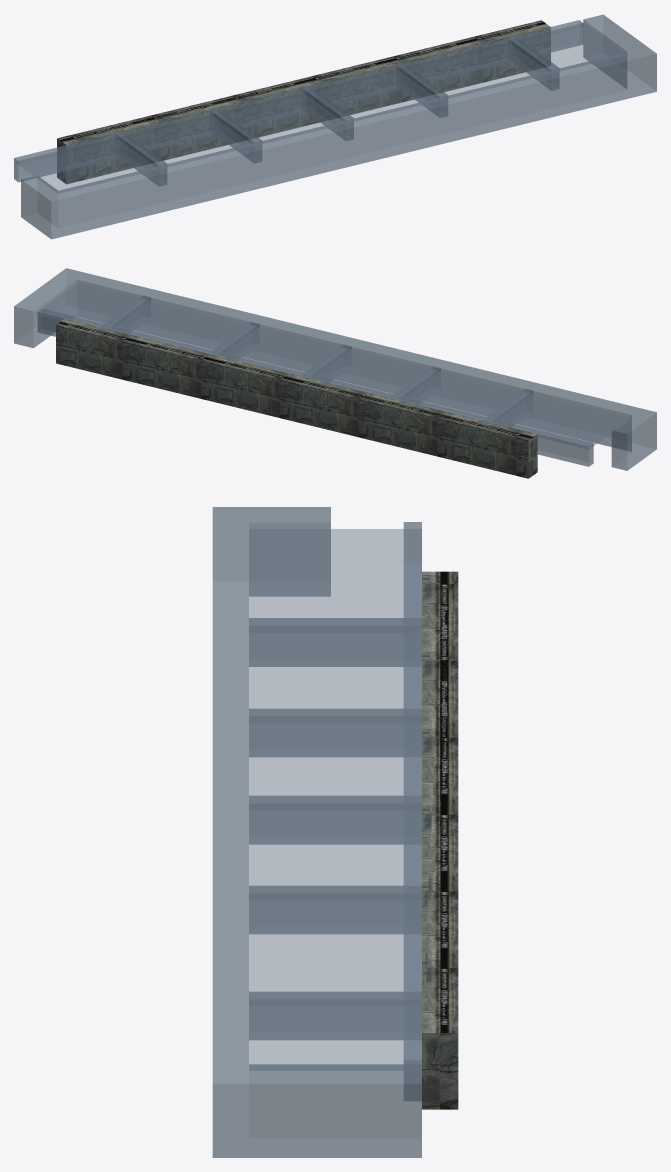
Rendered from shuichi.obj.
3 renders of one model, top to bottom at view 1: azimuth 30°, elevation 25°; view 2: azimuth 150°, elevation 25°; view 3: azimuth 270°, elevation 25°, orthographic. The views are drawn at different scales.
Parts seen in each view (by area): view 1: Line017, Line1789790232, Rectangle154, Rectangle153; view 2: Line017, Line1789790232, Rectangle154, Rectangle153; view 3: Rectangle154, Rectangle153, Line017, Line1789790232.
Part boxes in pixels (left/top/right/bottom): Line017: left=21, top=14, right=656, bottom=239; Line1789790232: left=57, top=20, right=550, bottom=184; Rectangle154: left=15, top=23, right=623, bottom=190; Rectangle153: left=14, top=20, right=583, bottom=186; Line017: left=14, top=268, right=656, bottom=470; Line1789790232: left=56, top=318, right=537, bottom=478; Rectangle154: left=34, top=283, right=628, bottom=449; Rectangle153: left=37, top=295, right=593, bottom=466; Rectangle154: left=249, top=529, right=421, bottom=1064; Rectangle153: left=249, top=522, right=421, bottom=1100; Line017: left=212, top=507, right=421, bottom=1157; Line1789790232: left=422, top=571, right=458, bottom=1109.
Size of the model in its own units: 75 by 4.65 by 13.5.
Materials: 2 (1 with a texture image).
